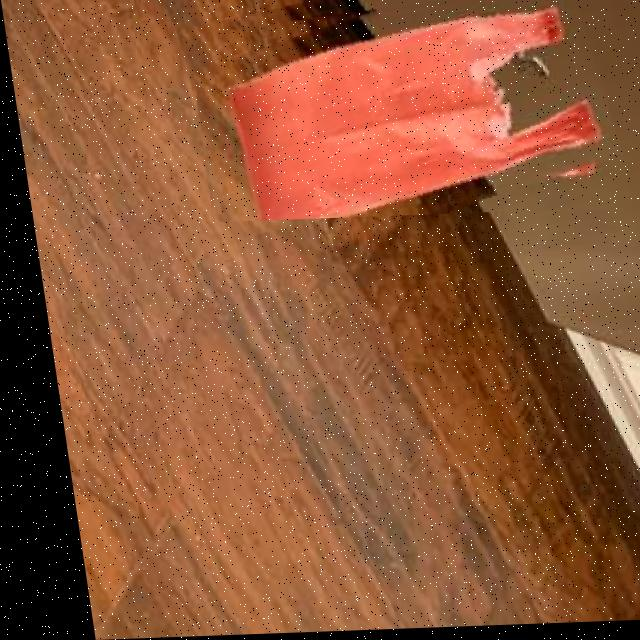plasticcover: (178, 0, 616, 224)
